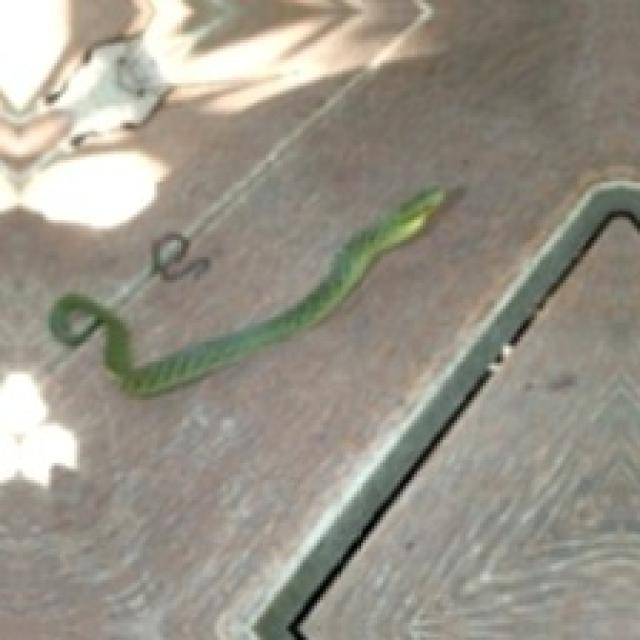red-tailed green ratsnake: (49, 189, 446, 394)
